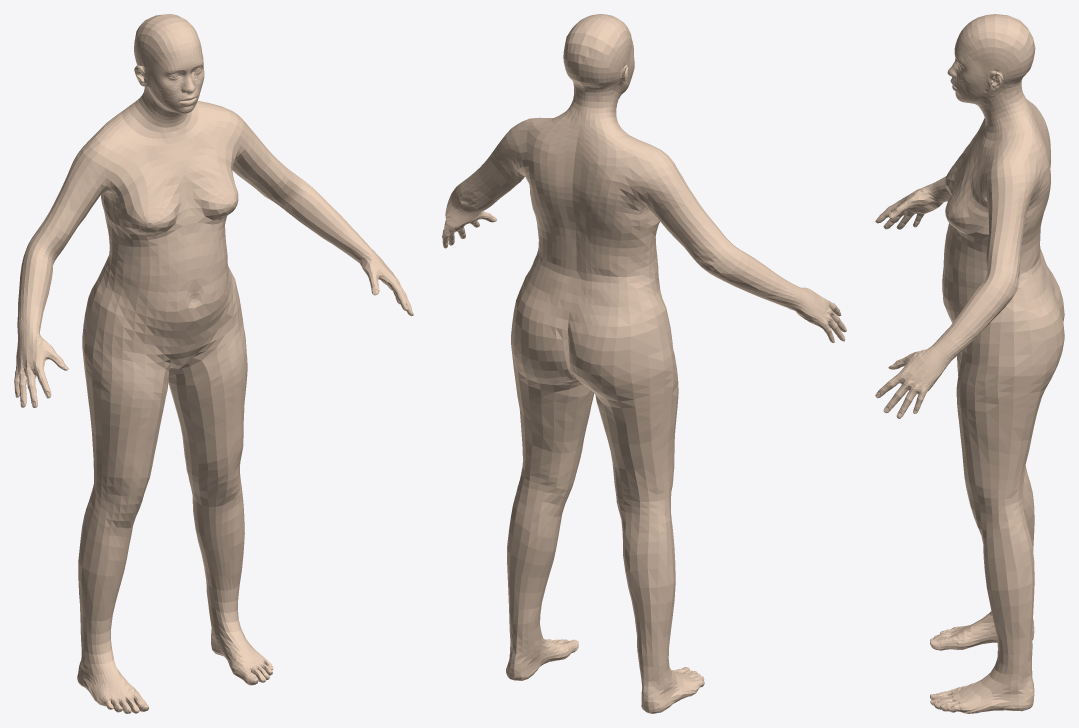
The model's file is female-adult-heavy-low.glb.
The picture shows the model from 3 angles, left to right: view 1: azimuth 30°, elevation 25°; view 2: azimuth 150°, elevation 25°; view 3: azimuth 270°, elevation 25°; orthographic projection.
Parts seen in each view (by area): view 1: world; view 2: world; view 3: world.
Boxes of the visible parts, <box> form: world: <box>14,14,413,713</box>; world: <box>442,14,846,713</box>; world: <box>875,14,1064,713</box>.
Bounding box in the file's own units: 1.12 × 1.81 × 0.4712.
